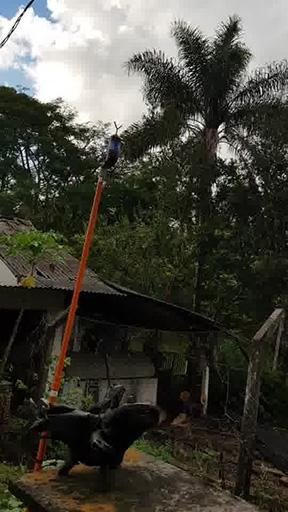Detector_Tensao_Contato: (104, 121, 124, 168)
Vara_Manobra: (34, 169, 105, 463)
